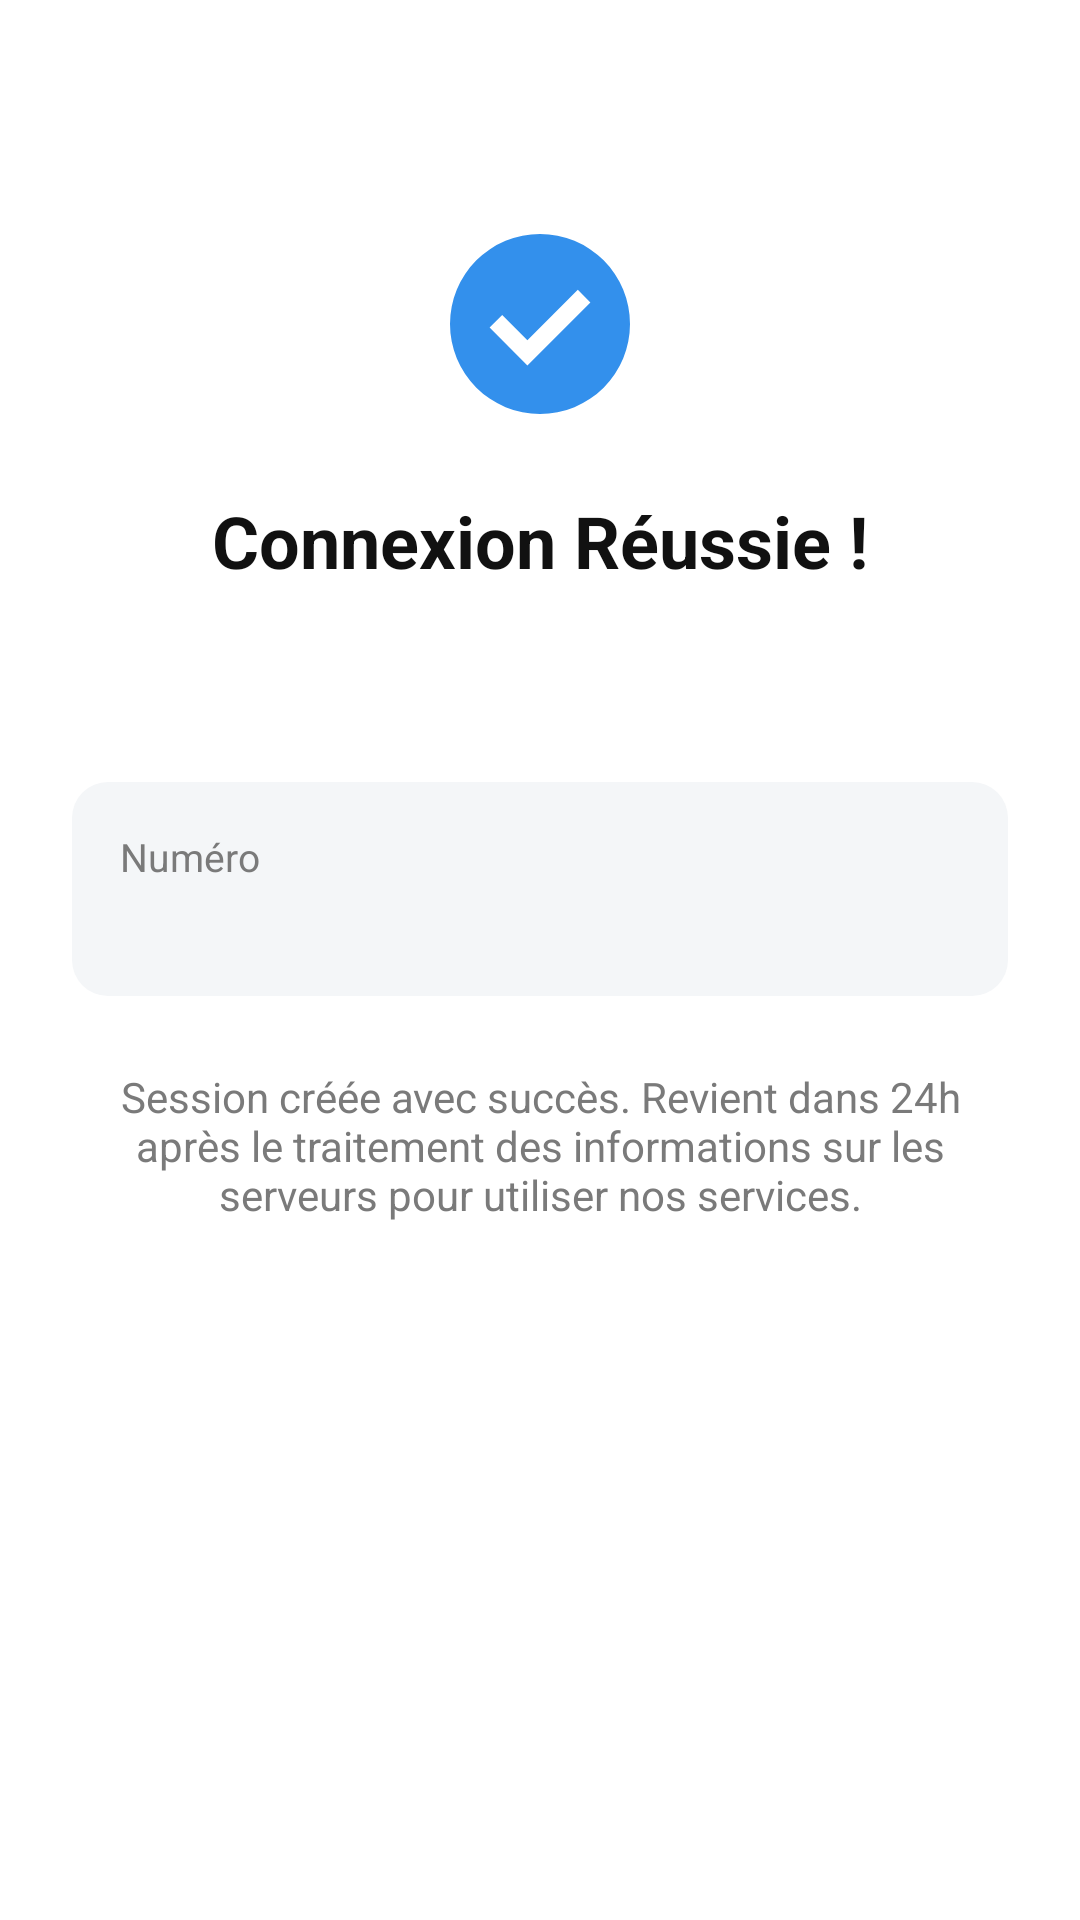

Named icons in this screenshot (1080 x 1920) and their centers, (x,y):
check: (540,324)
